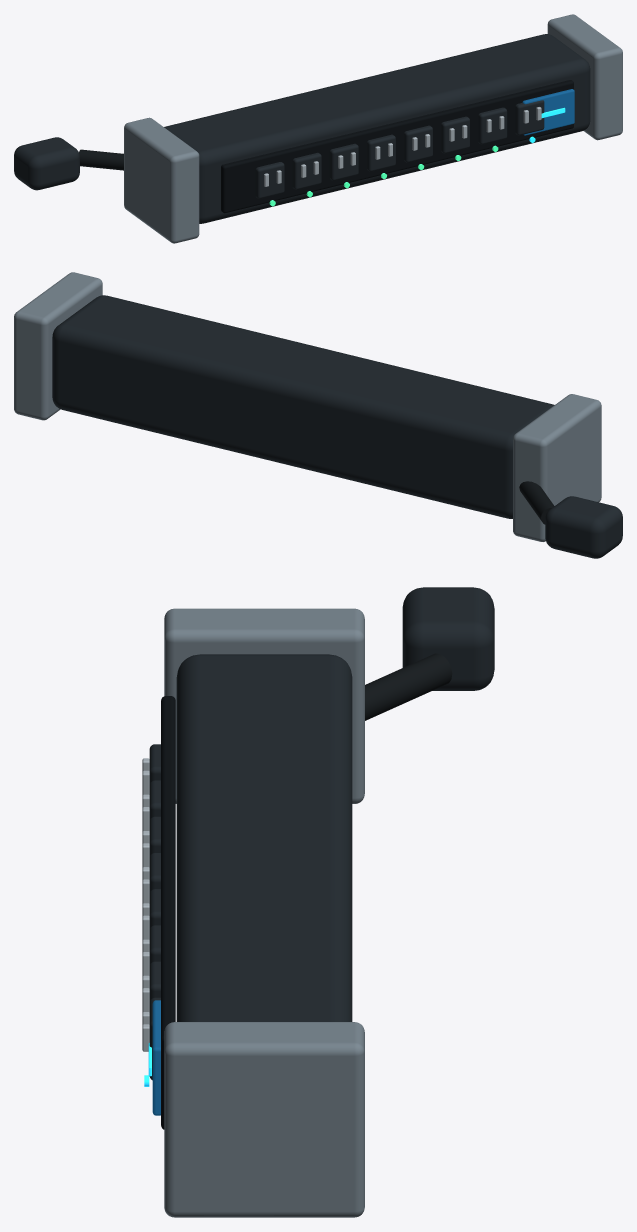
The model's file is power-distribution-unit.glb.
The picture shows the model from 3 angles, top to bottom: view 1: azimuth 30°, elevation 25°; view 2: azimuth 150°, elevation 25°; view 3: azimuth 270°, elevation 25°; orthographic projection. The views are drawn at different scales.
Visible parts, largest first — view 1: Rack PDU enclosure, Rack ear (×2), PDU front panel, Power lead plug, Premium rack power distribution unit, Load meter, Outlet 7, Outlet 1, Outlet 2, Outlet 3, Outlet 6, Outlet 4 (+2 smaller); view 2: Rack PDU enclosure, Rack ear (×2), Power lead plug, Premium rack power distribution unit; view 3: Rack PDU enclosure, Rack ear (×2), Power lead plug, Premium rack power distribution unit, PDU front panel, Load meter.
Part boxes in pixels (left/top/right/bottom): Rack PDU enclosure: left=164, top=34, right=590, bottom=223; Rack ear (×2): left=124, top=14, right=622, bottom=243; PDU front panel: left=221, top=80, right=573, bottom=213; Power lead plug: left=14, top=137, right=79, bottom=190; Premium rack power distribution unit: left=79, top=107, right=565, bottom=186; Load meter: left=522, top=89, right=574, bottom=135; Outlet 7: left=478, top=107, right=507, bottom=144; Outlet 1: left=255, top=162, right=284, bottom=198; Outlet 2: left=292, top=152, right=321, bottom=189; Outlet 3: left=329, top=143, right=358, bottom=180; Outlet 6: left=441, top=116, right=469, bottom=153; Outlet 4: left=367, top=134, right=395, bottom=171; Rack PDU enclosure: left=52, top=295, right=554, bottom=518; Rack ear (×2): left=14, top=272, right=601, bottom=541; Power lead plug: left=545, top=496, right=622, bottom=558; Premium rack power distribution unit: left=519, top=481, right=554, bottom=524; Rack PDU enclosure: left=176, top=654, right=352, bottom=1021; Rack ear (×2): left=164, top=608, right=364, bottom=1217; Power lead plug: left=402, top=587, right=494, bottom=690; Premium rack power distribution unit: left=142, top=653, right=452, bottom=1076; PDU front panel: left=161, top=696, right=175, bottom=1129; Load meter: left=152, top=1000, right=160, bottom=1115.
Size of the model in its own units: 2.94 by 0.46 by 0.842.
